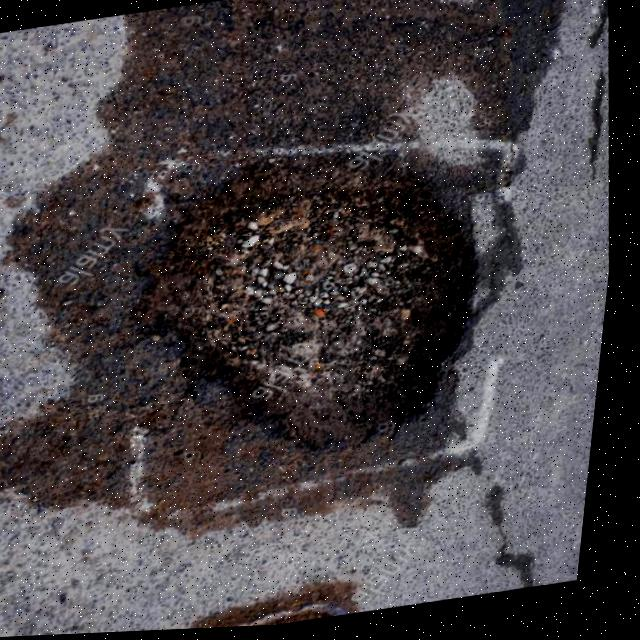Pothole: (139, 140, 502, 480)
